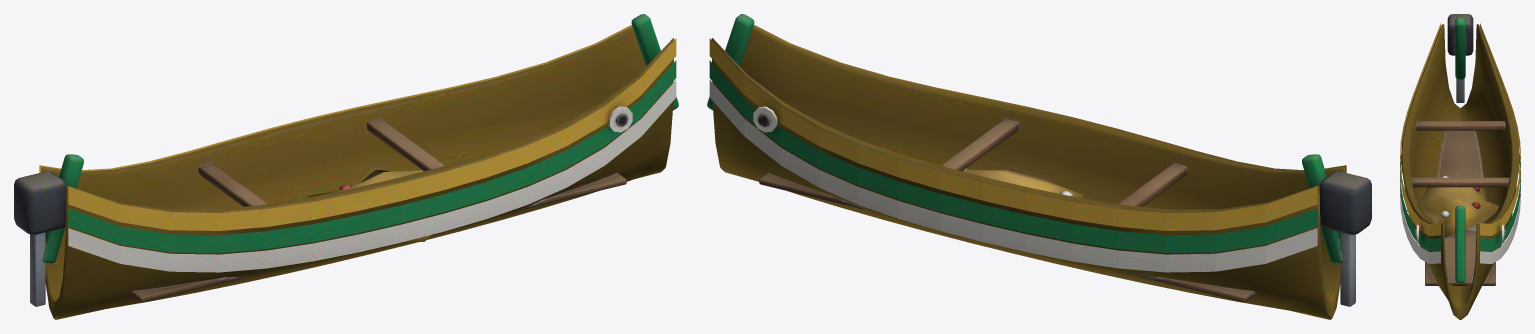
File: boat_b.glb
3 renders of one model, left to right at view 1: azimuth 30°, elevation 25°; view 2: azimuth 150°, elevation 25°; view 3: azimuth 270°, elevation 25°, orthographic. The views are drawn at different scales.
Visible parts, largest first — view 1: boat_b; view 2: boat_b; view 3: boat_b.
Part boxes in pixels (left/top/right/bottom): boat_b: left=14, top=14, right=678, bottom=319; boat_b: left=707, top=14, right=1371, bottom=319; boat_b: left=1400, top=14, right=1520, bottom=319.
Size of the model in its own units: 4.96 by 1.17 by 1.17.
1 material, 1 textured.
